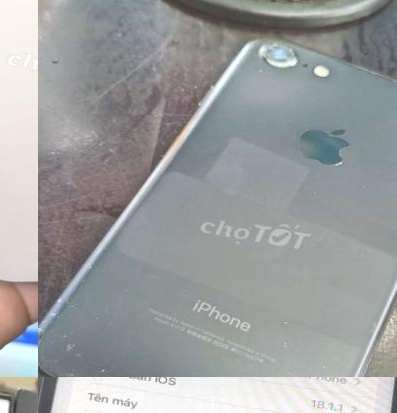scratch: (38, 285, 352, 377), (275, 110, 384, 210), (74, 240, 167, 286), (228, 29, 308, 82), (360, 63, 397, 130), (359, 312, 382, 343), (272, 309, 296, 328)
